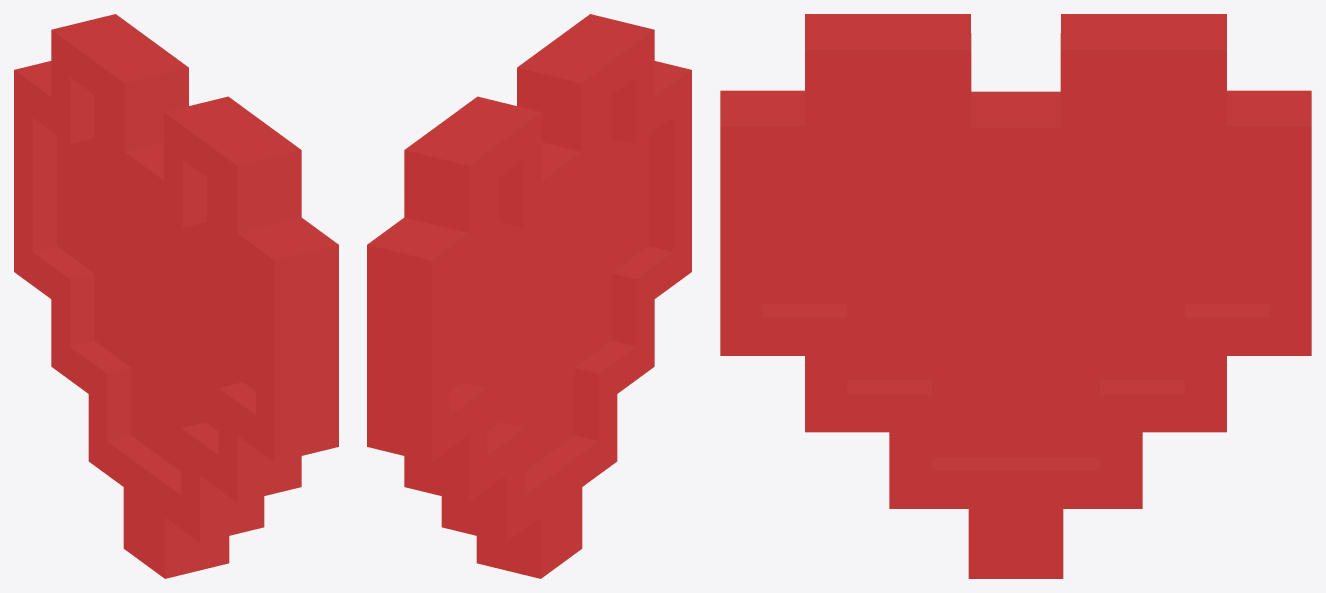
Rendered from Life.fbx.
3 renders of one model, left to right at view 1: azimuth 30°, elevation 25°; view 2: azimuth 150°, elevation 25°; view 3: azimuth 270°, elevation 25°, orthographic. The views are drawn at different scales.
Visible parts, largest first — view 1: Heart; view 2: Heart; view 3: Heart.
Boxes of the visible parts, x1,y1,x2,y2 form: Heart: (14, 14, 338, 578); Heart: (367, 14, 691, 578); Heart: (720, 14, 1311, 578).
Bounding box in the file's own units: 0.4 × 2.77 × 2.8.
